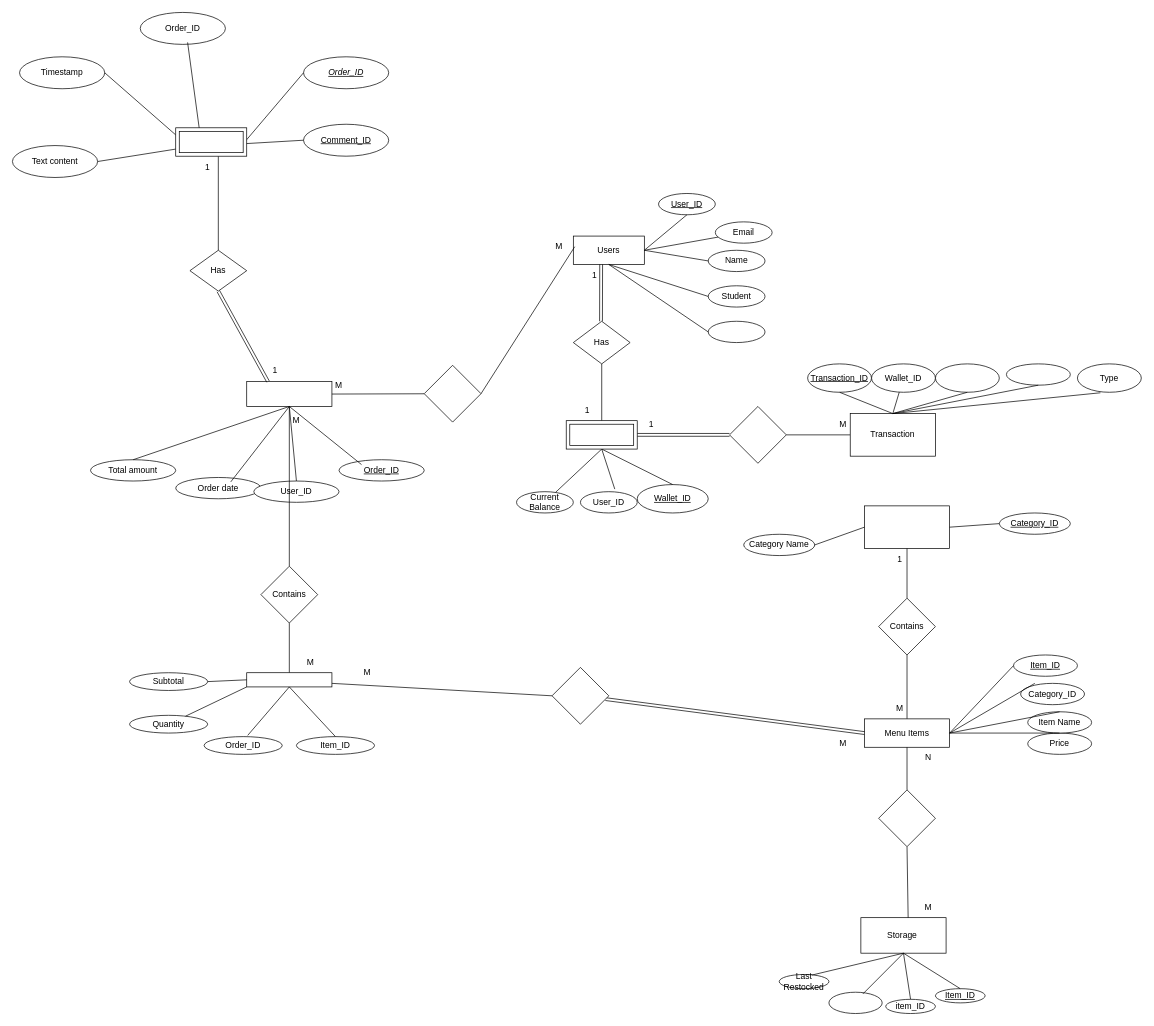
This 1154x1026 diagram has some shape labels left out. The shapes that lost their labels are listed below. From the top down, each one's centre as x and y in pixels, then its label:
point 211,141: Comment
point 736,332: Employees
point 289,393: Ordres
point 452,393: Places
point 967,377: Date
point 1038,374: Amount
point 601,434: Wallet
point 757,434: Deducts
point 907,526: Category
point 289,679: Order Items
point 580,695: ordered from
point 906,818: contains from
point 855,1003: Quantity availabe
